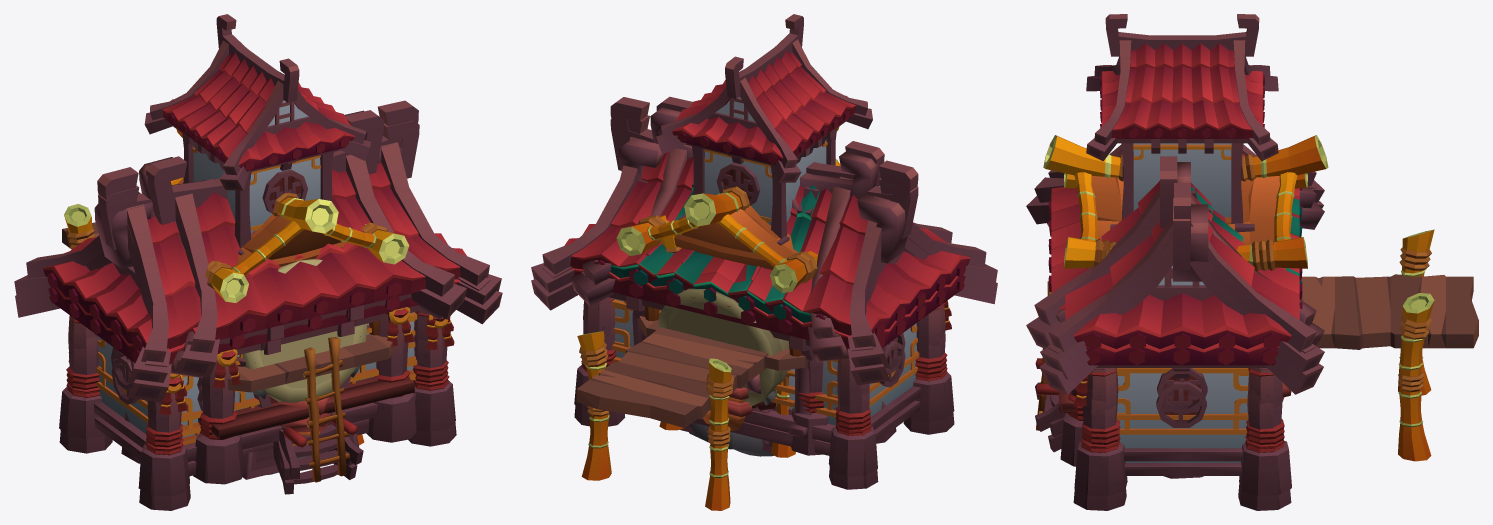
File: village.glb
The picture shows the model from 3 angles, left to right: view 1: azimuth 30°, elevation 25°; view 2: azimuth 150°, elevation 25°; view 3: azimuth 270°, elevation 25°; orthographic projection. The views are drawn at different scales.
Parts seen in each view (by area): view 1: building_2, building_3, building_1, f_fishing_cabin, shop, drum, arch_2, f_platform; view 2: building_2, f_platform, building_1, shop, f_fishing_cabin, drum, building_3, arch_2, well, f_boat2; view 3: building_2, building_1, f_platform, f_fishing_cabin, building_3, shop, arch_2.
Boxes of the visible parts, bbox=[...] form: building_2: bbox=[14, 14, 501, 496]; building_3: bbox=[146, 110, 466, 484]; building_1: bbox=[15, 120, 502, 510]; f_fishing_cabin: bbox=[170, 129, 409, 482]; shop: bbox=[139, 110, 442, 439]; drum: bbox=[242, 259, 367, 479]; arch_2: bbox=[94, 144, 402, 463]; f_platform: bbox=[62, 204, 98, 362]; building_2: bbox=[531, 14, 997, 476]; f_platform: bbox=[576, 327, 767, 510]; building_1: bbox=[531, 115, 997, 489]; shop: bbox=[571, 107, 878, 438]; f_fishing_cabin: bbox=[616, 126, 840, 457]; drum: bbox=[658, 288, 789, 451]; building_3: bbox=[582, 96, 952, 455]; arch_2: bbox=[618, 138, 907, 443]; well: bbox=[689, 401, 775, 452]; f_boat2: bbox=[703, 404, 753, 431]; building_2: bbox=[1040, 14, 1324, 495]; building_1: bbox=[1039, 184, 1323, 510]; f_platform: bbox=[1301, 229, 1478, 461]; f_fishing_cabin: bbox=[1036, 135, 1328, 430]; building_3: bbox=[1026, 148, 1310, 466]; shop: bbox=[1047, 162, 1324, 412]; arch_2: bbox=[1163, 204, 1208, 478].
Size of the model in its own units: 4.73 by 5.17 by 4.78.
Materials: 3 (3 with a texture image).
